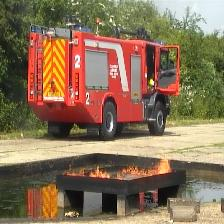fire: (114, 155, 172, 180), (88, 165, 111, 179), (61, 166, 87, 177)
